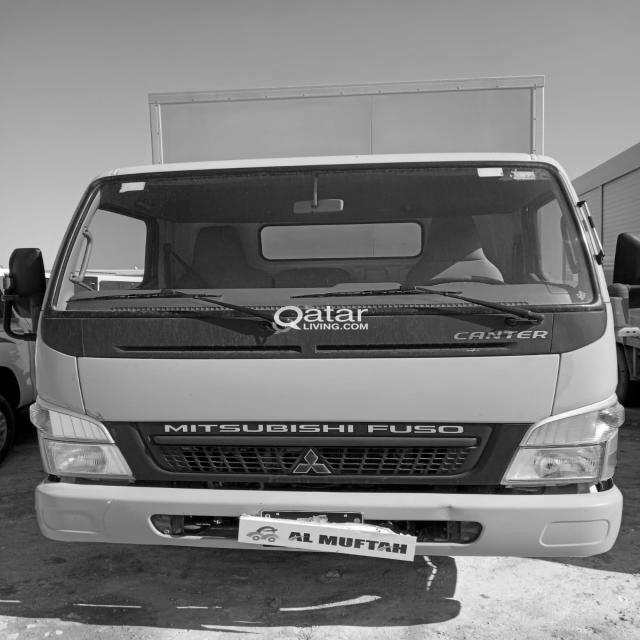truck: (9, 133, 640, 581)
